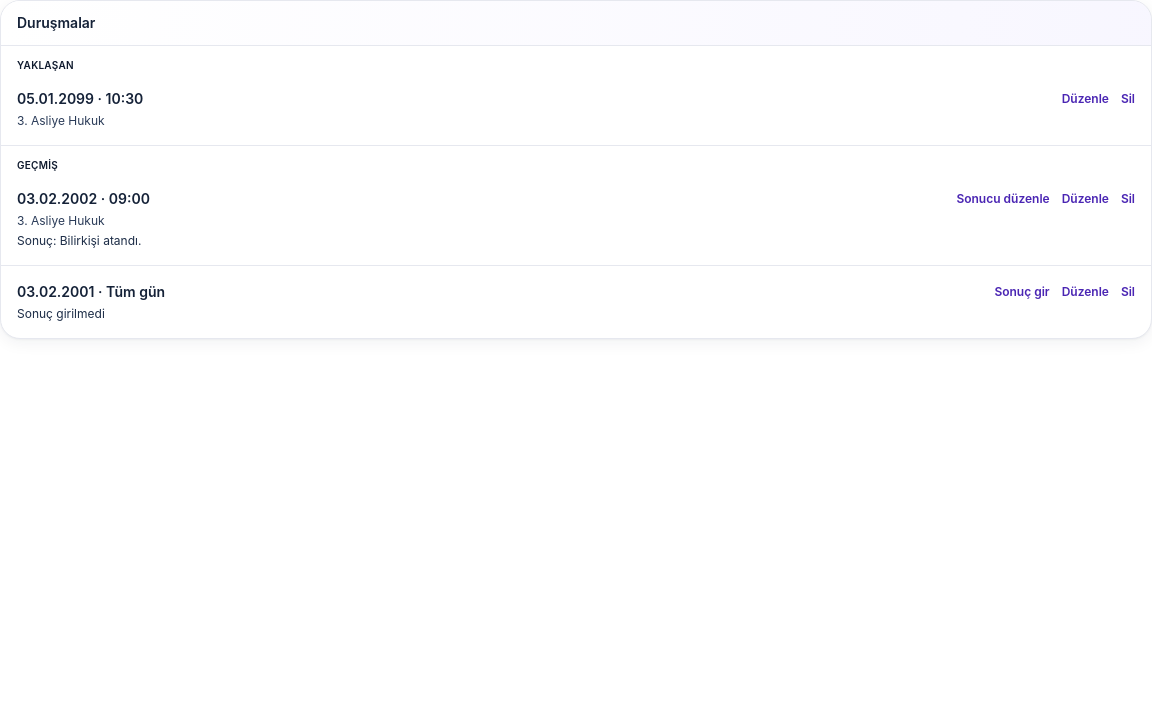
Test: CaseHearingsCard › hides 'Duruşma ekle' and the next-hearing option on a closed case but keeps edit, delete and result
Expected: the button "Düzenle" in the row of "05.01.2099 · 10:30" is shown, [1062, 91, 1109, 107]
Expected: the button "Sil" in the row of "05.01.2099 · 10:30" is shown, [1121, 91, 1135, 107]
Click the button "Sonuç gir" at point(1022, 292), box [994, 284, 1050, 300]
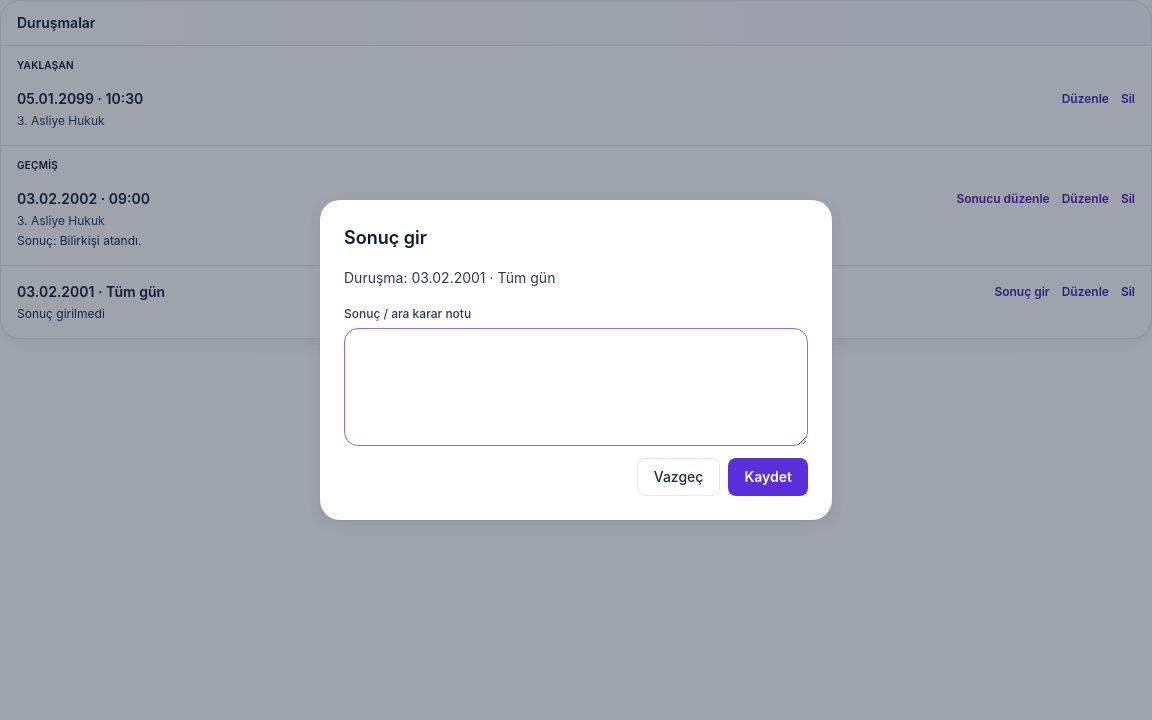
Expected: the dialog "Sonuç gir" is shown, [320, 200, 832, 520]
